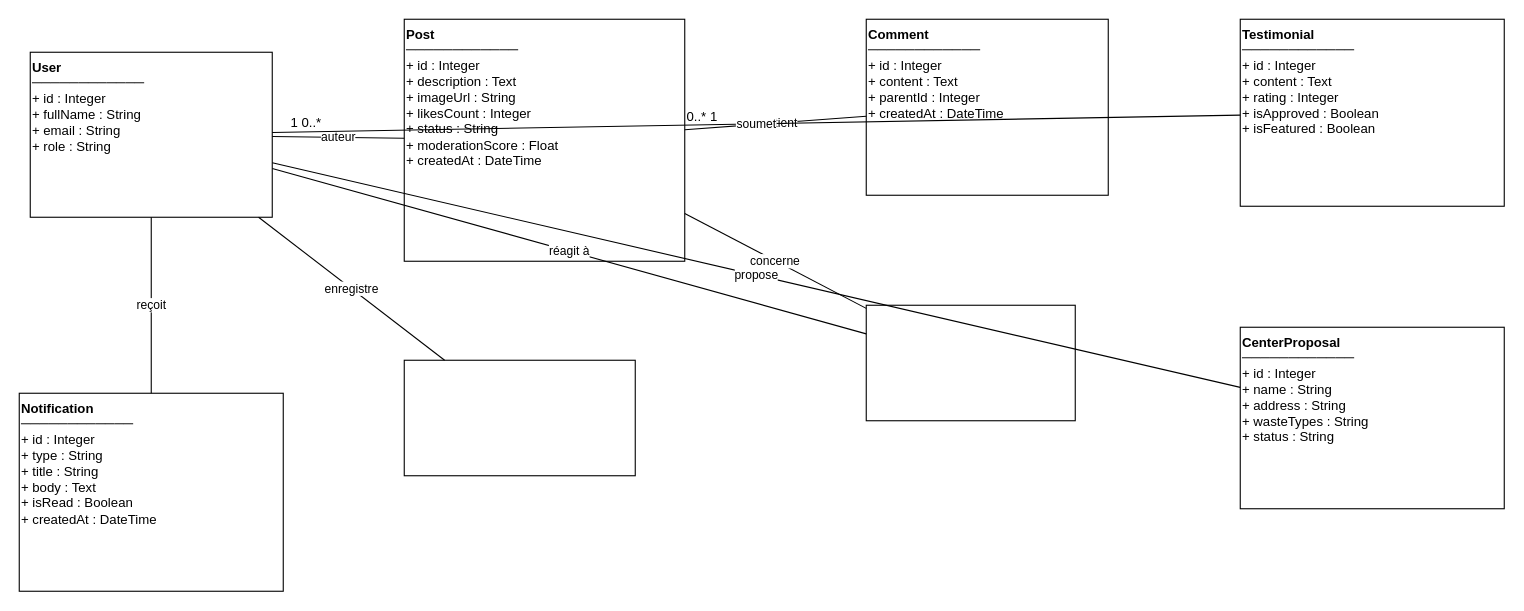
The diagram is 1524 pixels wide and 611 high, and some of its shapes have lost their labels. Each missing label, with the box of its shape:
Like ──────────── + id : Integer + createdAt : DateTime: (865, 304, 1075, 421)
SavedPost ──────────── + id : Integer + savedAt : DateTime: (403, 359, 635, 476)
